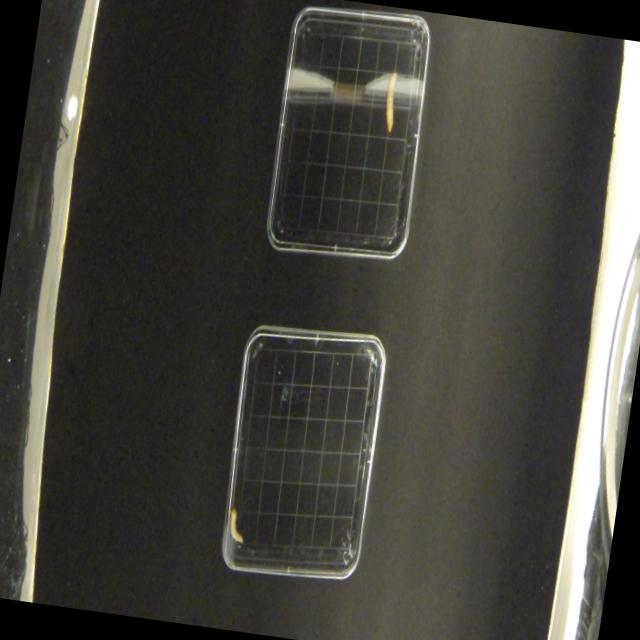larva: (382, 71, 401, 134), (225, 502, 249, 546)
